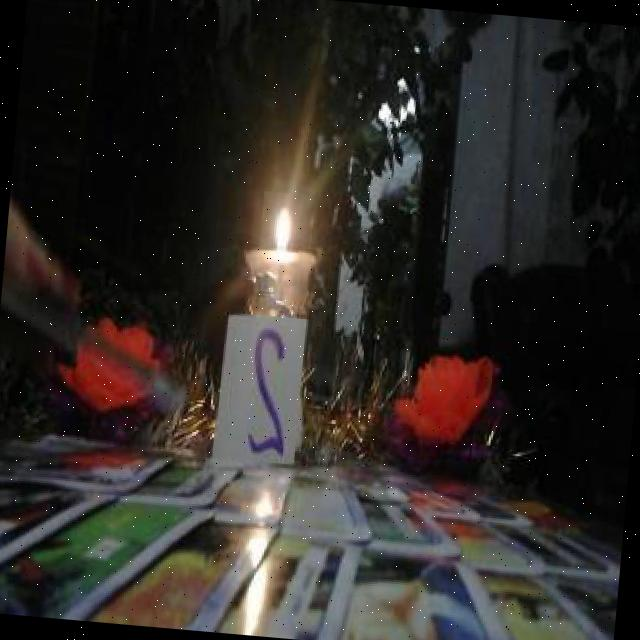fire: (259, 190, 303, 252)
